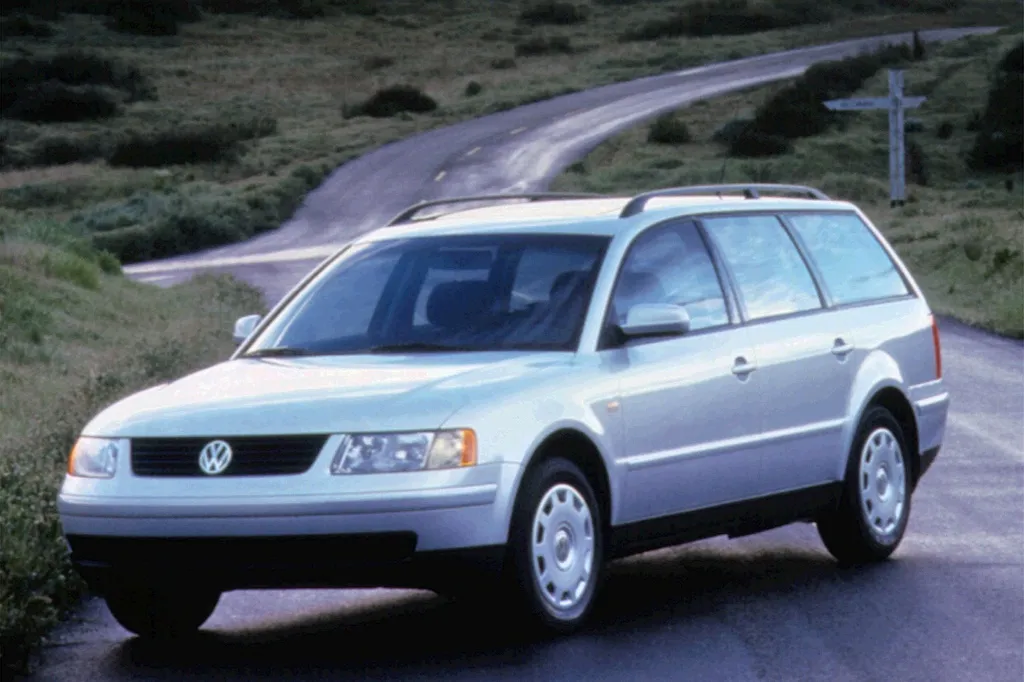car: (49, 180, 956, 641)
